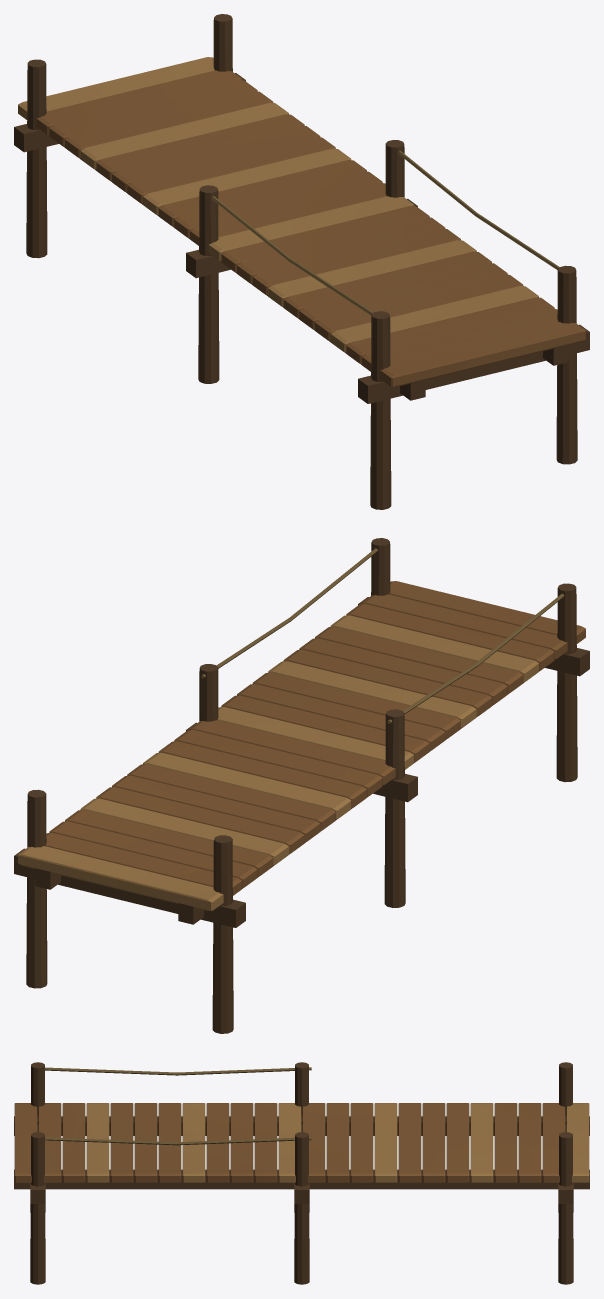
File: Prop_Lakeside_WoodenPier6m_001.glb
3 renders of one model, top to bottom at view 1: azimuth 30°, elevation 25°; view 2: azimuth 150°, elevation 25°; view 3: azimuth 270°, elevation 25°, orthographic. The views are drawn at different scales.
Parts seen in each view (by area): view 1: LK_WoodenPier6m_Body; view 2: LK_WoodenPier6m_Body; view 3: LK_WoodenPier6m_Body.
Part boxes in pixels (<box>): LK_WoodenPier6m_Body: <box>14,14,589,509</box>; LK_WoodenPier6m_Body: <box>14,538,589,1033</box>; LK_WoodenPier6m_Body: <box>14,1062,589,1284</box>.
Size of the model in its own units: 2.05 by 1.68 by 6.
